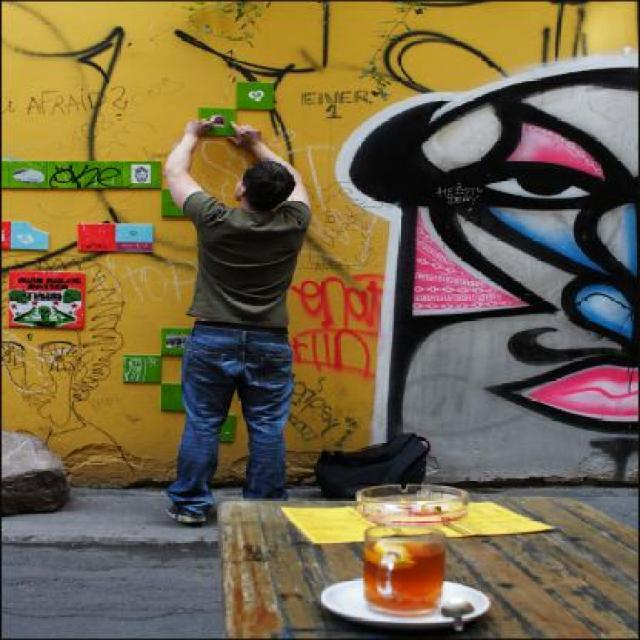Juice: (357, 530, 466, 612)
